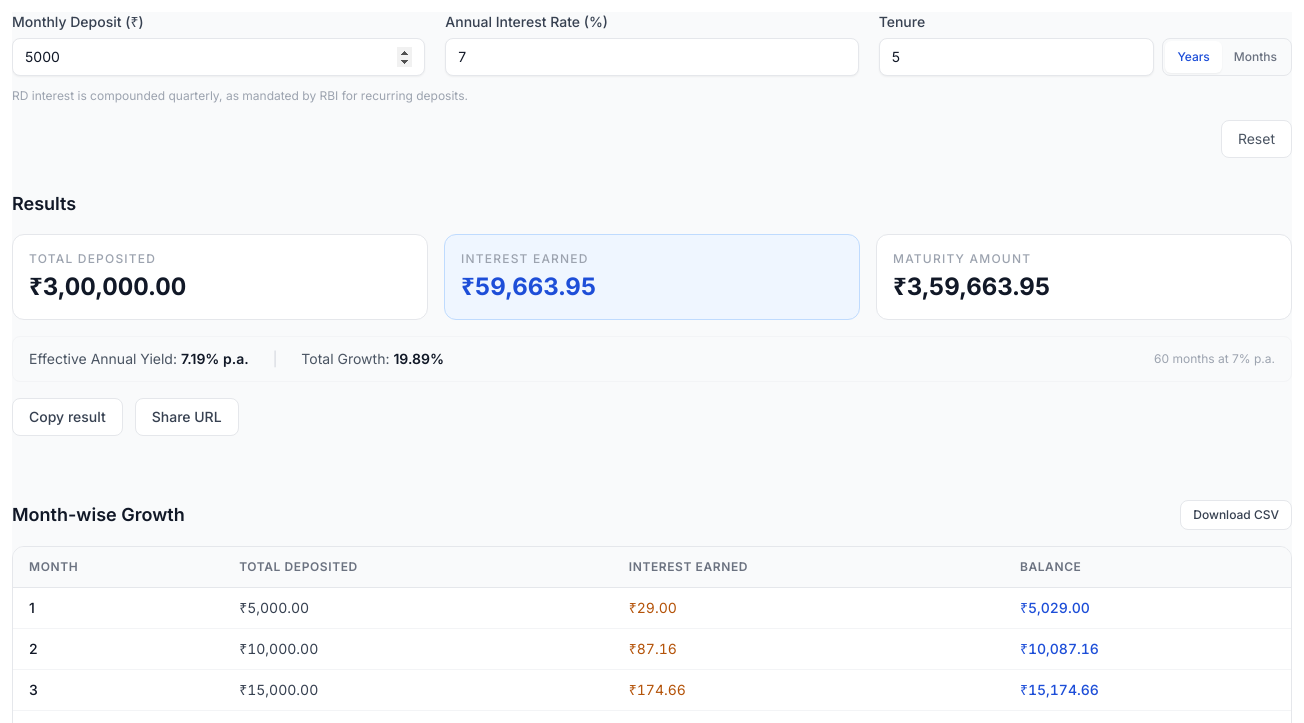
it: RDCalculator › reset restores default deposit (5000)
Replace the text in the number field labelled "Monthly Deposit (₹)" with "9999" at [219, 57], box top-left (12, 38), bottom-right (425, 76)
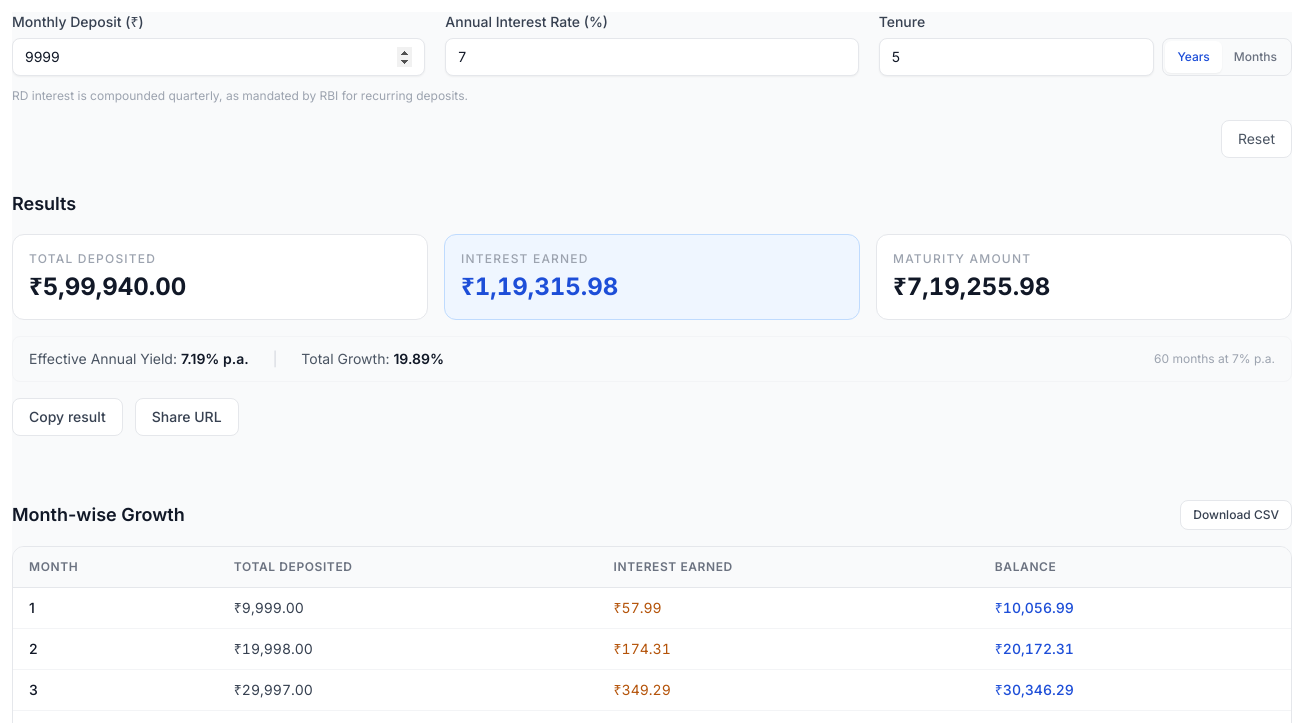
Click the button "Reset" at [1256, 139], box top-left (1221, 120), bottom-right (1292, 158)
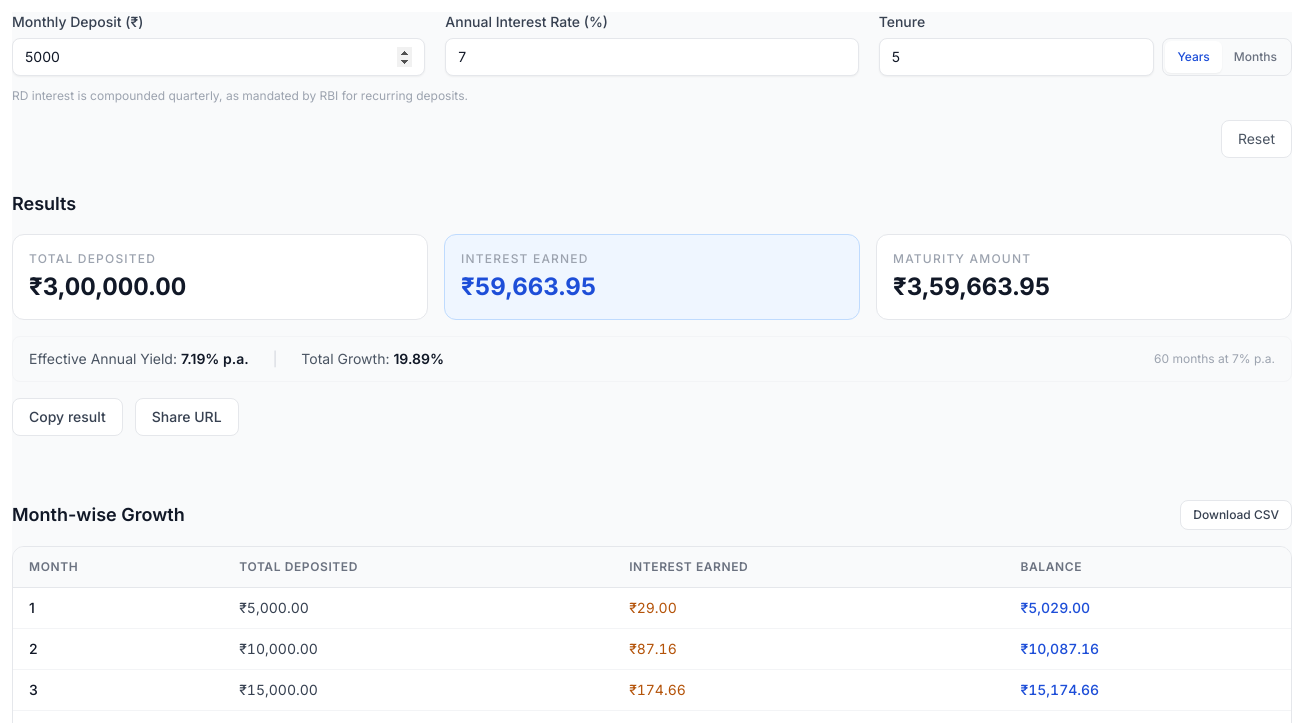
Expected: the number field labelled "Monthly Deposit (₹)" holds "5000", top-left (12, 38), bottom-right (425, 76)
